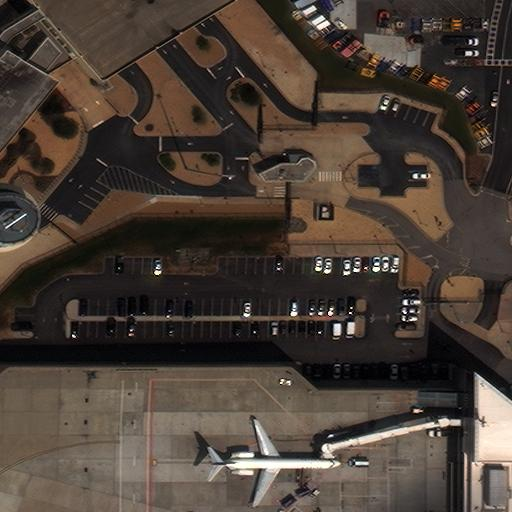Medium Civil Transport: (210, 419, 344, 506)
